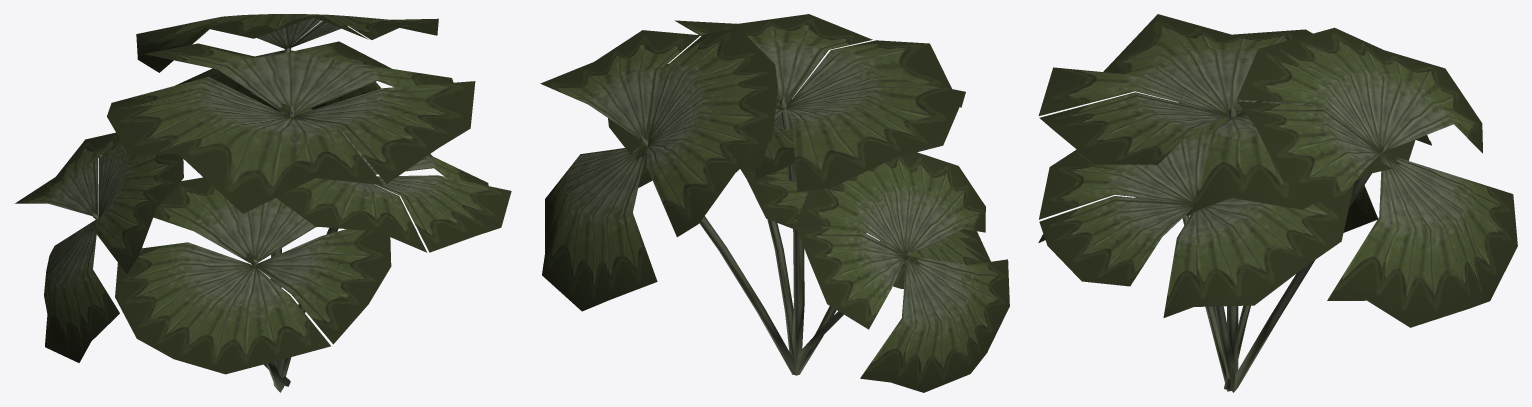
Rendered from plant2.glb.
3 views of the same model, side by side, from view 1: azimuth 30°, elevation 25°; view 2: azimuth 150°, elevation 25°; view 3: azimuth 270°, elevation 25° (orthographic). The views are drawn at different scales.
Visible parts, largest first — view 1: node_id92; view 2: node_id92; view 3: node_id92.
Boxes of the visible parts, left/top/right/bottom form: node_id92: left=15, top=14, right=511, bottom=392; node_id92: left=540, top=14, right=1009, bottom=392; node_id92: left=1038, top=14, right=1517, bottom=392.
Size of the model in its own units: 0.259 by 0.2099 by 0.2487.
Materials: 1 (1 with a texture image).
